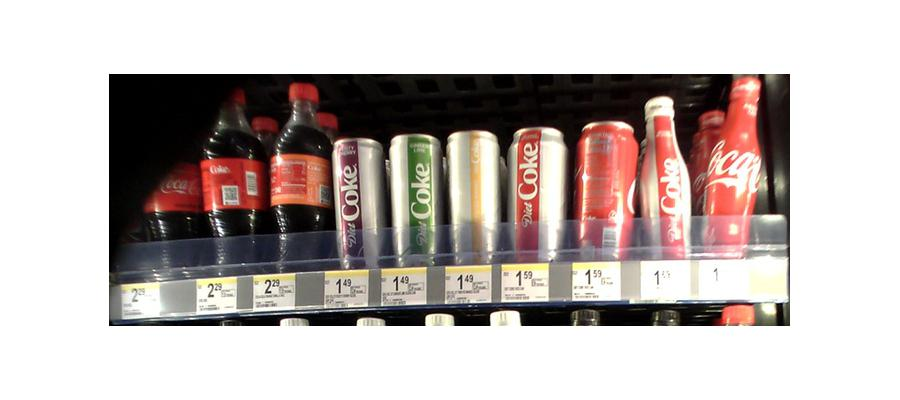bottle: (694, 72, 765, 261), (267, 80, 332, 275), (201, 86, 268, 275), (639, 92, 693, 267), (574, 120, 637, 262), (506, 127, 567, 265), (142, 143, 201, 278), (445, 130, 502, 265), (388, 134, 442, 266), (333, 137, 387, 269)
